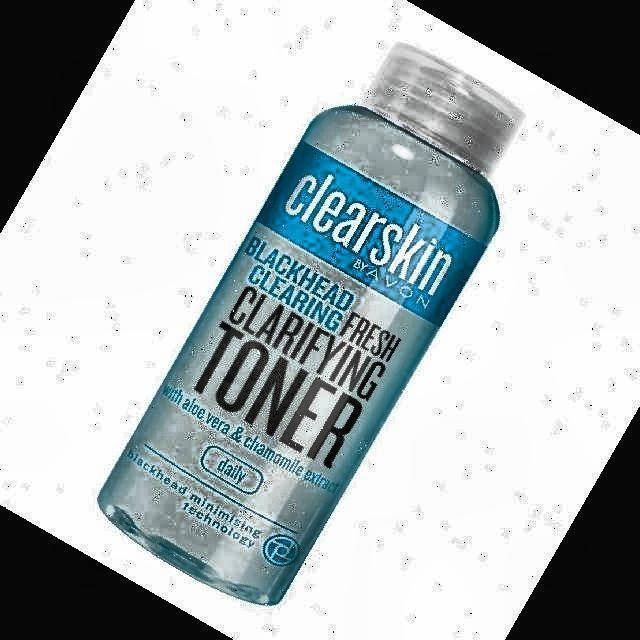plastic: (99, 45, 522, 603)
